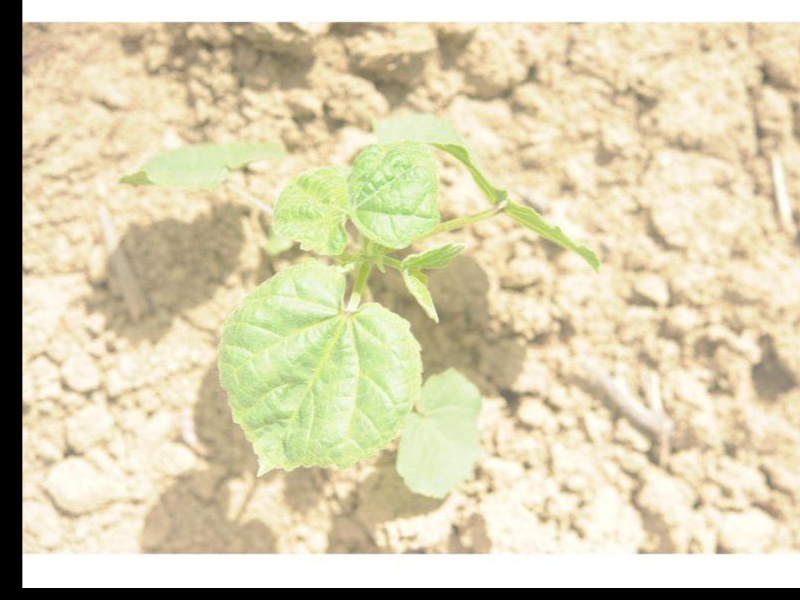velvet: (119, 110, 602, 499)
